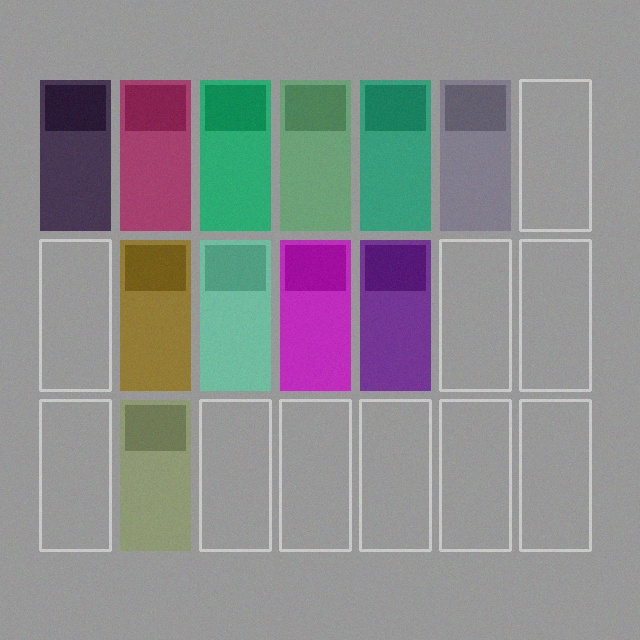space-empty: (520, 80, 590, 230), (40, 240, 110, 390), (440, 240, 510, 390), (520, 240, 590, 390), (40, 400, 110, 550), (200, 400, 270, 550), (280, 400, 350, 550), (360, 400, 430, 550), (440, 400, 510, 550), (520, 400, 590, 550)
space-occupied: (40, 80, 110, 230), (120, 80, 190, 230), (200, 80, 270, 230), (280, 80, 350, 230), (360, 80, 430, 230), (440, 80, 510, 230), (120, 240, 190, 390), (200, 240, 270, 390), (280, 240, 350, 390), (360, 240, 430, 390), (120, 400, 190, 550)
